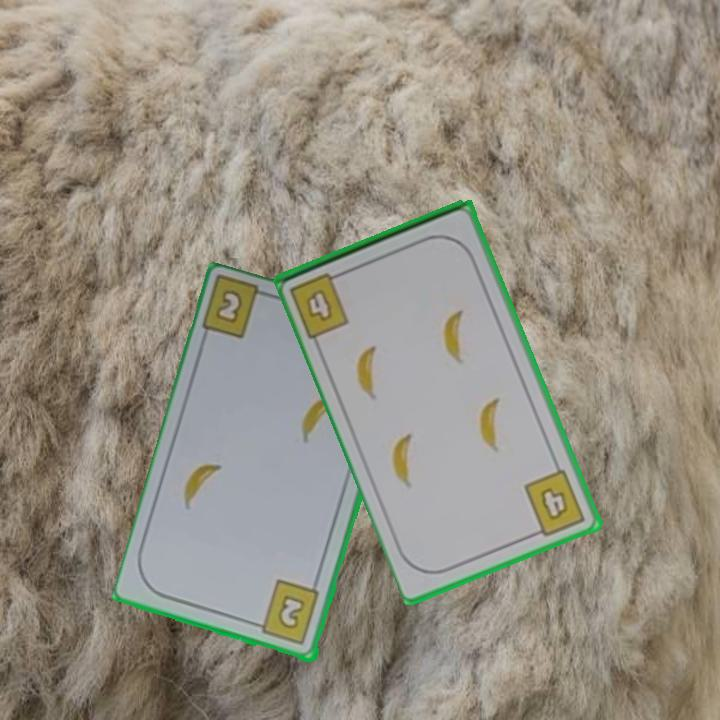2b: (250, 577, 322, 648), (215, 289, 243, 323)
4b: (520, 466, 589, 540), (286, 268, 353, 341)
